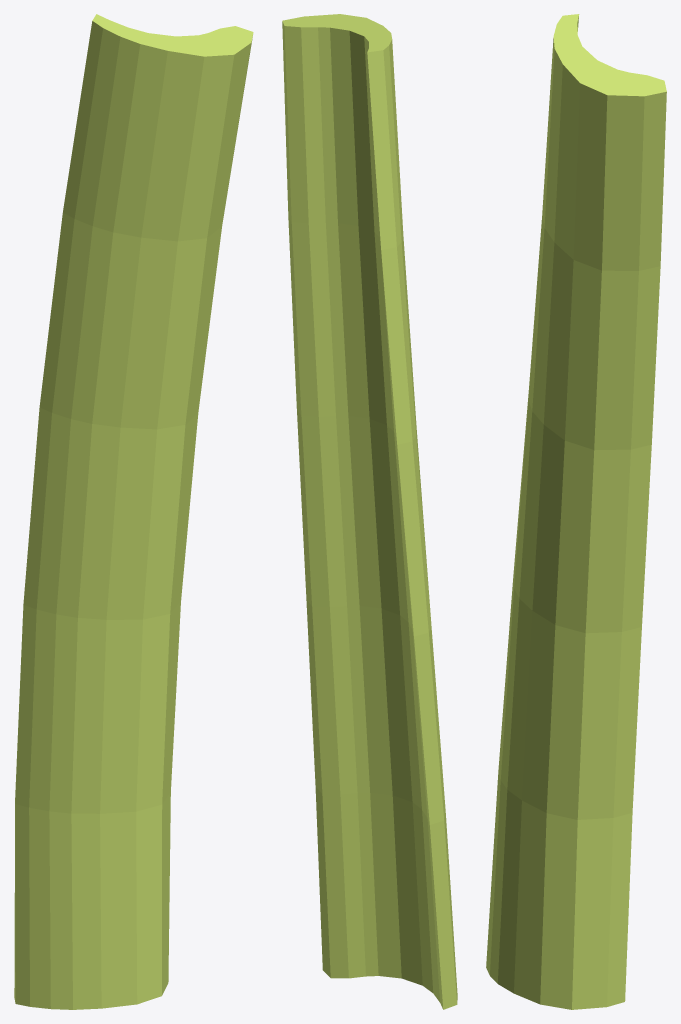
The model's file is Celery.FBX.
3 renders of one model, left to right at view 1: azimuth 30°, elevation 25°; view 2: azimuth 150°, elevation 25°; view 3: azimuth 330°, elevation 25°, orthographic. The views are drawn at different scales.
Parts seen in each view (by area): view 1: Celery; view 2: Celery; view 3: Celery.
Boxes of the visible parts, x1,y1,x2,y2 form: Celery: [14, 14, 253, 1009]; Celery: [282, 14, 457, 1009]; Celery: [486, 14, 666, 1009].
Size of the model in its own units: 0.7326 by 3.24 by 0.4062.
